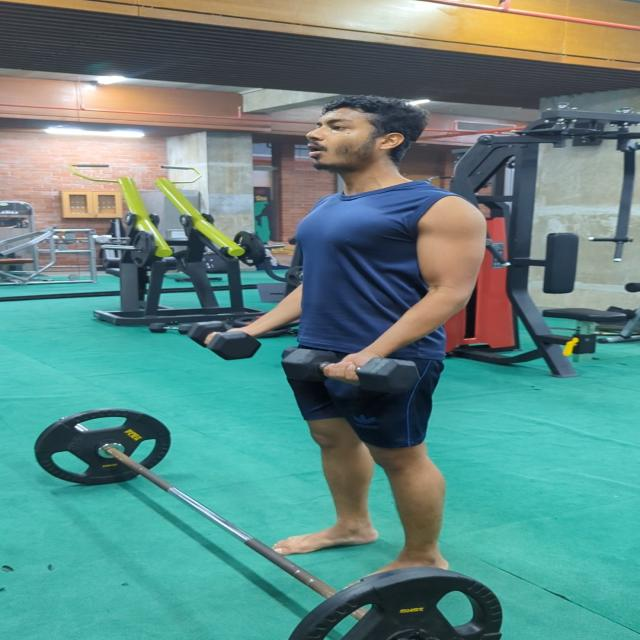Normal_DumbbellBicepCurls: (202, 93, 487, 588)
